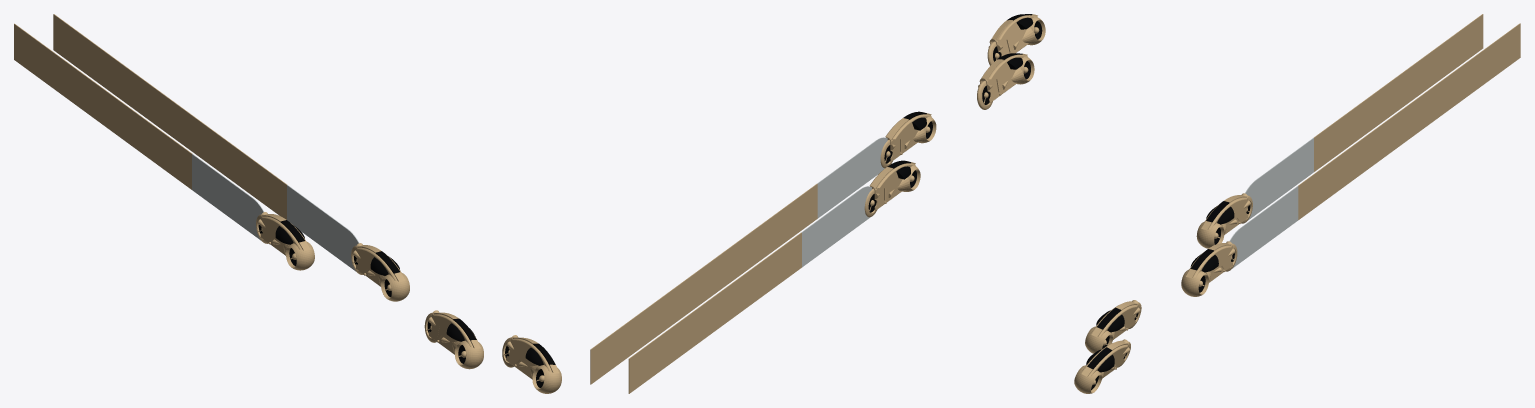
File: TRON BIKES.dae
3 renders of one model, left to right at view 1: azimuth 30°, elevation 25°; view 2: azimuth 150°, elevation 25°; view 3: azimuth 330°, elevation 25°, orthographic. The views are drawn at different scales.
Parts seen in each view (by area): view 1: Group3, Group2, Group5, Group4, Group10, Group15, Group27, Group22; view 2: Group3, Group2, Group4, Group5, Group10, Group15, Group27, Group22, Bike_red1, Bike_yellow1, Bike_orange1, Bike_blue1; view 3: Group3, Group2, Group4, Group5, Group22, Group27, Group10, Group15.
Boxes of the visible parts, <box> form: Group3: <box>53,14,287,219</box>; Group2: <box>14,23,192,189</box>; Group5: <box>192,154,264,240</box>; Group4: <box>287,185,359,271</box>; Group10: <box>513,337,561,393</box>; Group15: <box>433,312,483,369</box>; Group27: <box>262,214,314,270</box>; Group22: <box>357,245,409,301</box>; Group3: <box>590,183,817,384</box>; Group2: <box>628,232,801,393</box>; Group4: <box>817,137,887,218</box>; Group5: <box>801,186,871,267</box>; Group10: <box>991,14,1045,52</box>; Group15: <box>981,53,1034,92</box>; Group27: <box>869,161,920,200</box>; Group22: <box>885,112,936,151</box>; Bike_red1: <box>978,67,1023,102</box>; Bike_yellow1: <box>988,27,1034,56</box>; Bike_orange1: <box>886,128,925,162</box>; Bike_blue1: <box>870,177,909,210</box>; Group3: <box>1298,23,1520,219</box>; Group2: <box>1313,14,1483,171</box>; Group4: <box>1229,186,1298,268</box>; Group5: <box>1245,138,1313,220</box>; Group22: <box>1181,243,1231,296</box>; Group27: <box>1196,195,1246,248</box>; Group10: <box>1074,340,1127,393</box>; Group15: <box>1085,301,1137,353</box>.
Size of what is drawn, in the model's own units: 333 by 139 by 3300.
